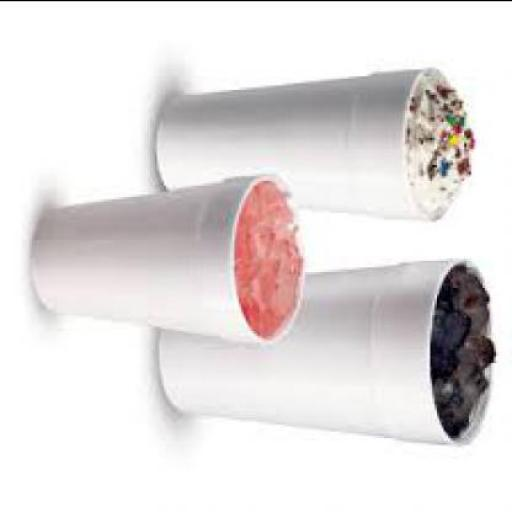biodegradable: (432, 269, 501, 439), (406, 74, 476, 218), (239, 184, 303, 337)
paper: (161, 262, 501, 448), (31, 175, 312, 344), (162, 71, 472, 223)
